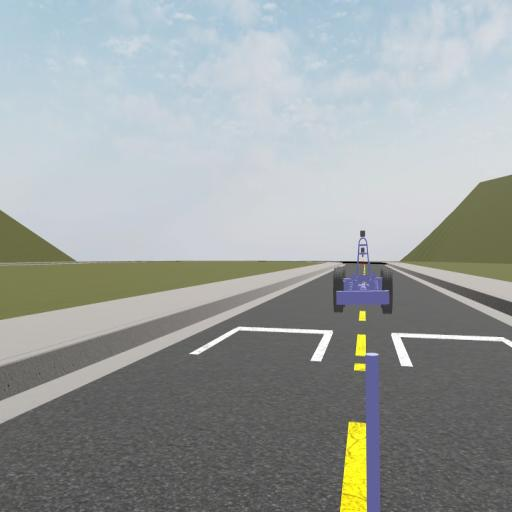ERP-42: (334, 231, 392, 312)
